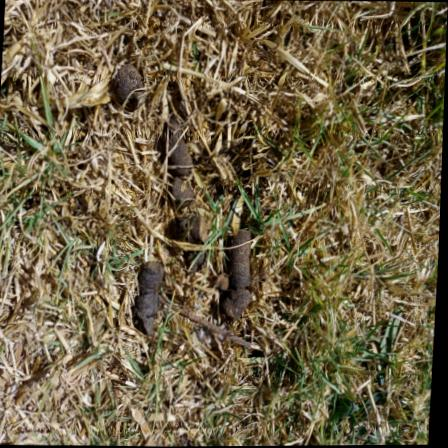dog-poop: (86, 57, 271, 357)
